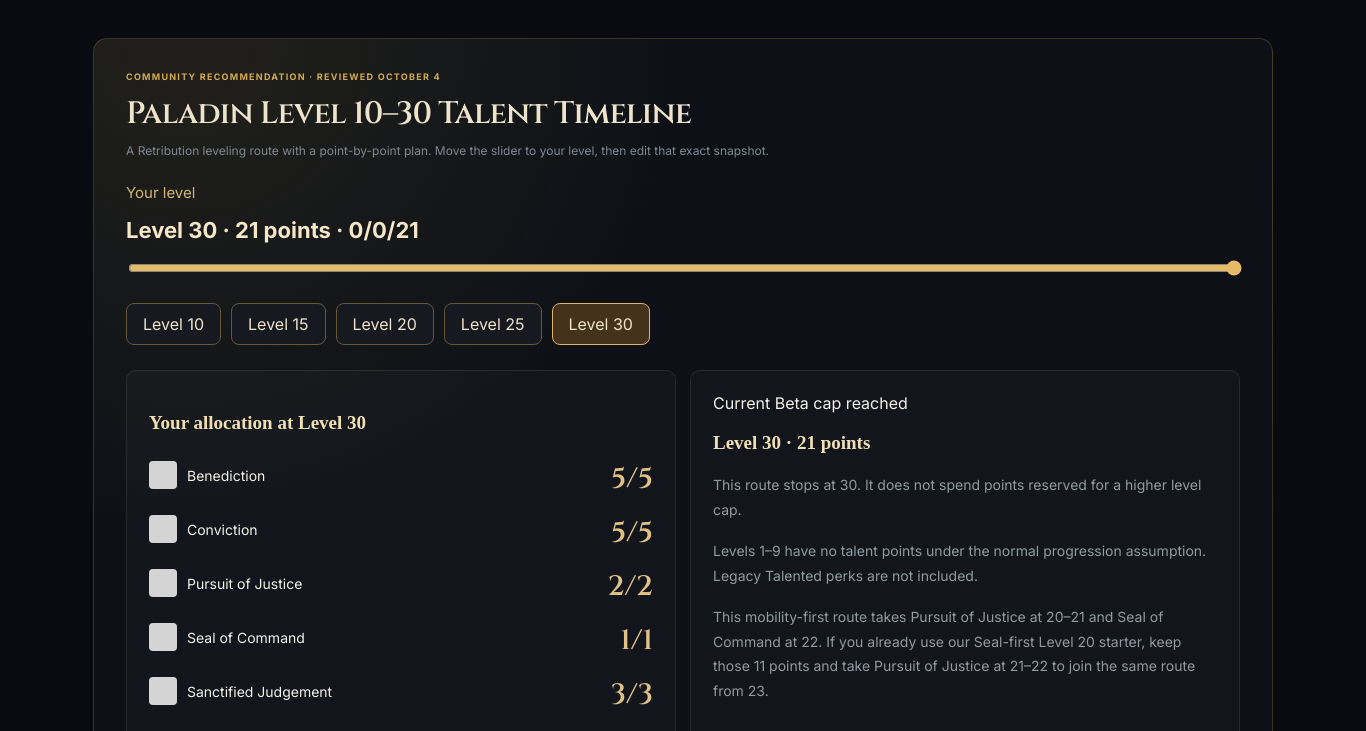
moves snapshots, next talent and the link together without spending future points
This screenshot has width=1366, height=731.
Expected: the text "Current Beta cap reached" is shown, [713,393,908,413]
Click the button "Level 20" at (385, 324), box [336,303,434,345]
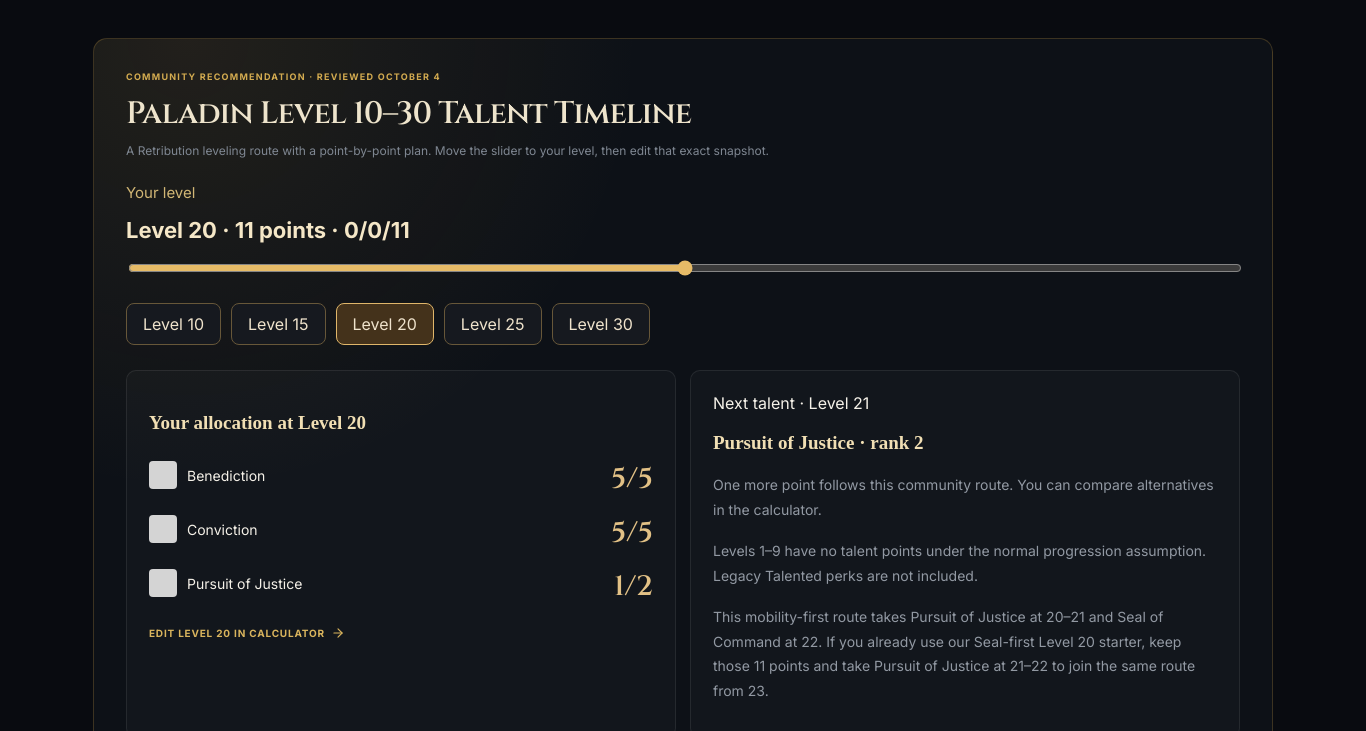
Now the text "Next talent · Level 21" is shown, box [713,393,869,413]
Set the slider to "29" at (1179, 268), box [128,260,1242,276]
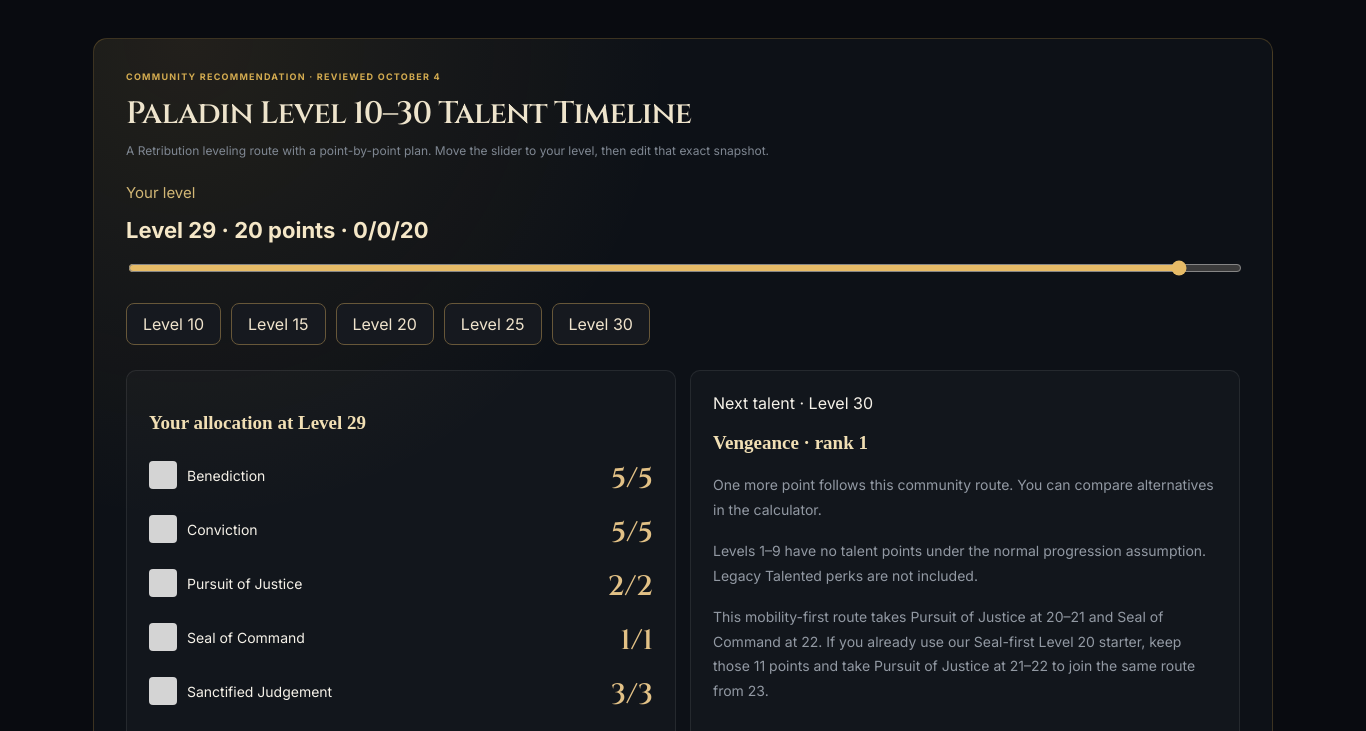
Now the heading "Vengeance · rank 1" is shown, box [713,432,868,453]
